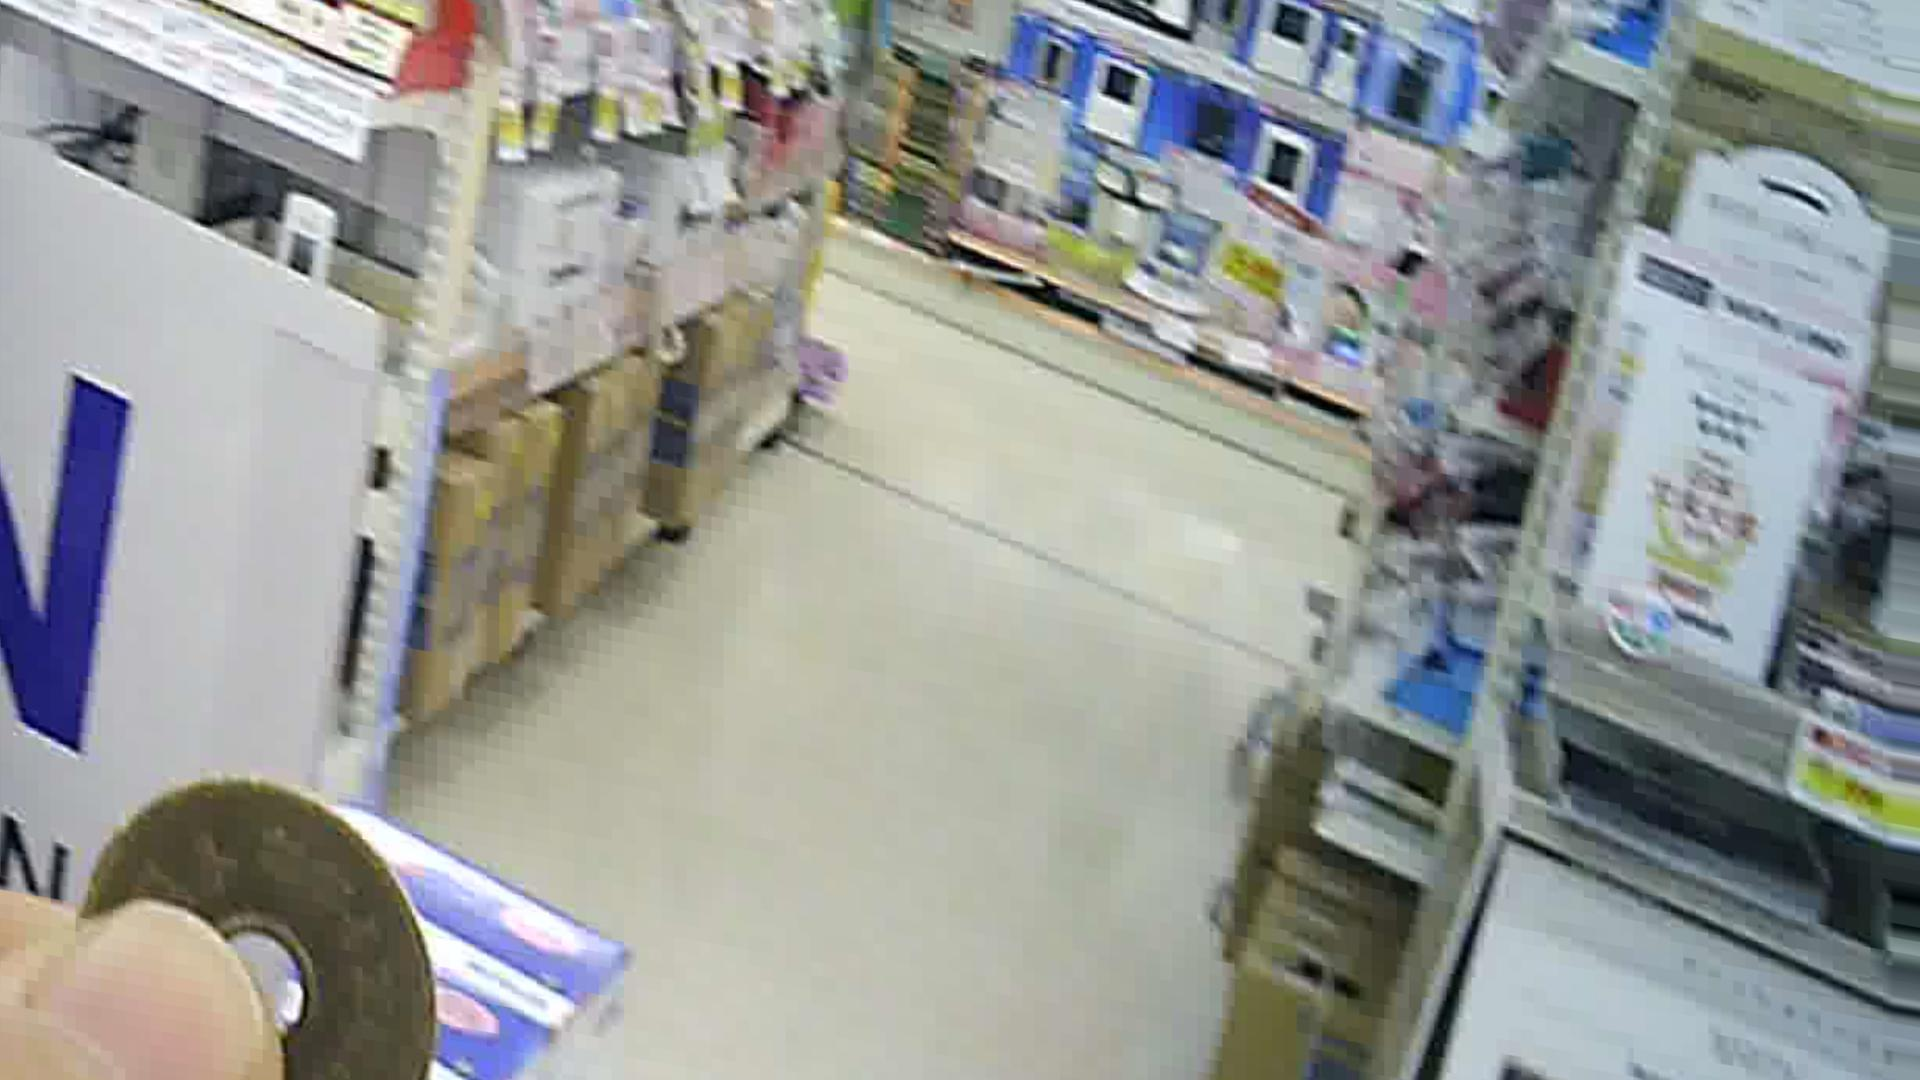5 Yen: (65, 781, 450, 1079)
